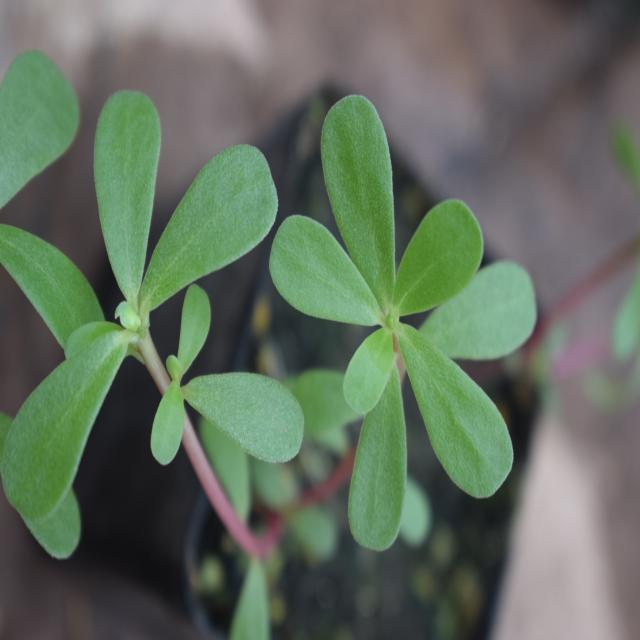purslane: (11, 80, 543, 566)
